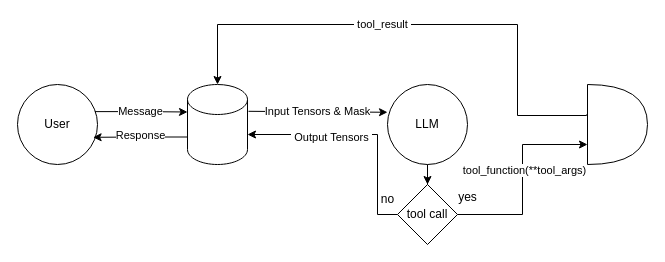
This 665x262 diagram has some shape labels left out. The shapes that lost their labels are listed below. From the top down, each one's centre as x and y in pixels, then its label:
the point at 217,124: Tokenizer
the point at 617,124: Module
